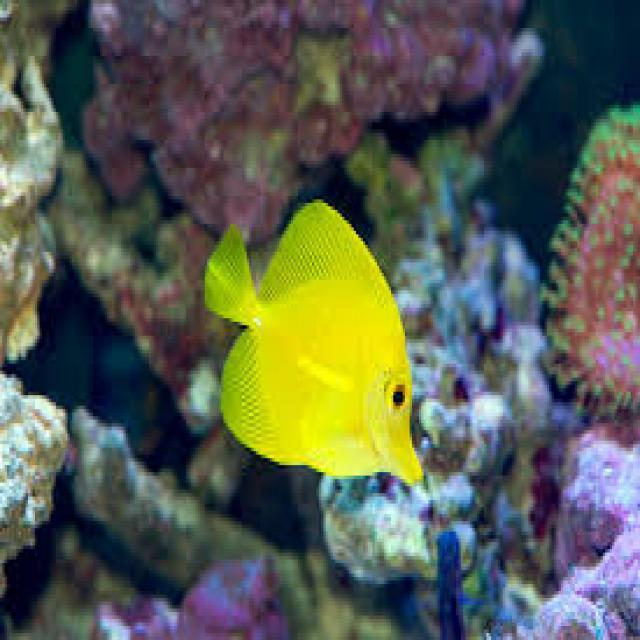YellowTang: (191, 185, 430, 516)
